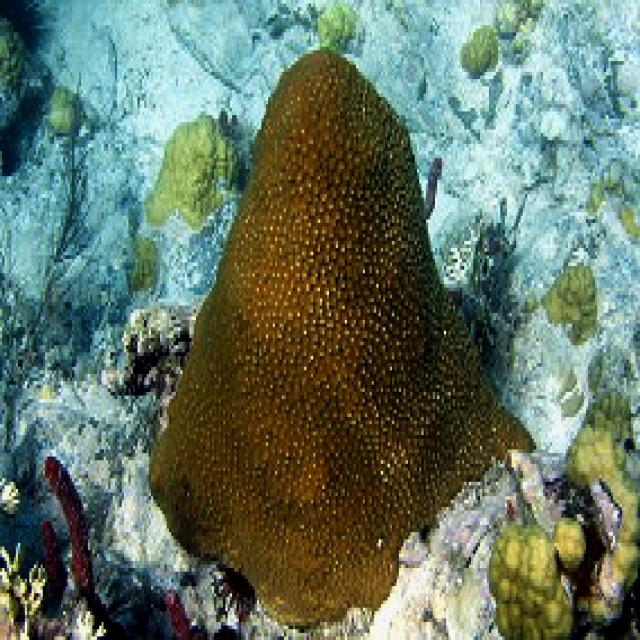Coral: (149, 51, 536, 626)
